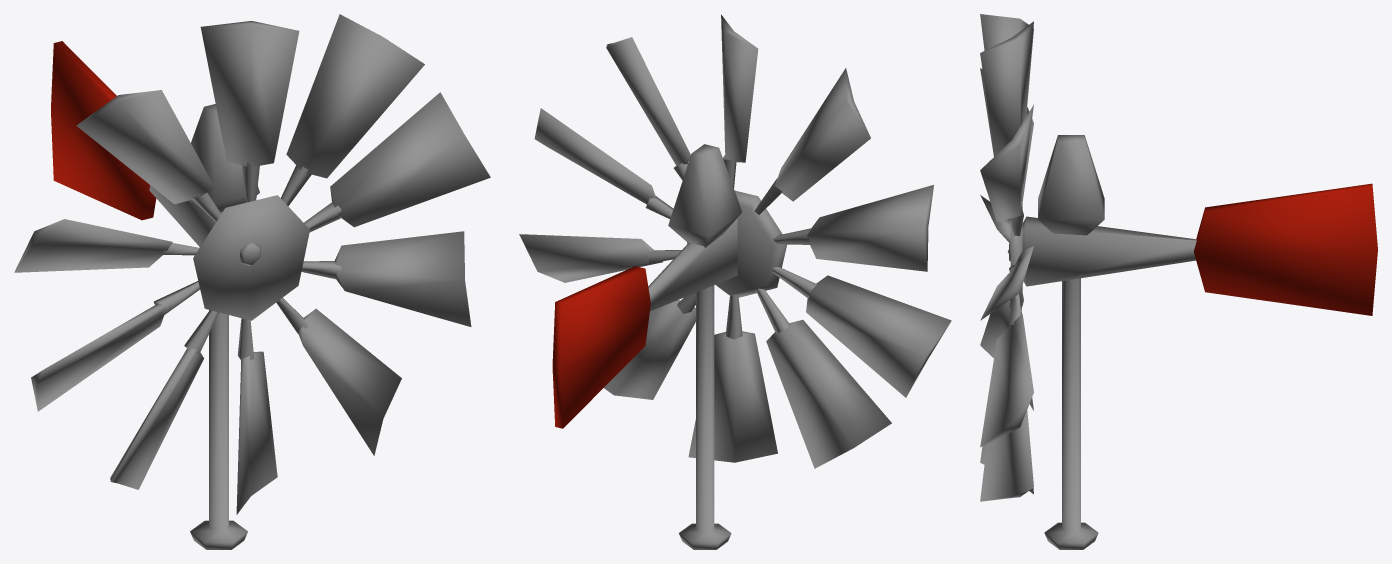
File: Western_Windmill_FanParts.fbx
3 views of the same model, side by side, from view 1: azimuth 30°, elevation 25°; view 2: azimuth 150°, elevation 25°; view 3: azimuth 270°, elevation 25° (orthographic). The views are drawn at different scales.
Parts seen in each view (by area): view 1: windmill-fan-parts, windmill-fan-parts.003, windmill-fan-parts.004, windmill-fan-parts.002, windmill-fan-parts.007, windmill-fan-parts.001, windmill-fan-parts.005, windmill-fan-parts.009, windmill-fan-parts.006, windmill-fan-parts.008; view 2: windmill-fan-parts, windmill-fan-parts.002, windmill-fan-parts.008, windmill-fan-parts.006, windmill-fan-parts.003, windmill-fan-parts.005, windmill-fan-parts.009, windmill-fan-parts.007, windmill-fan-parts.001, windmill-fan-parts.004; view 3: windmill-fan-parts, windmill-fan-parts.002, windmill-fan-parts.003, windmill-fan-parts.004, windmill-fan-parts.001, windmill-fan-parts.007, windmill-fan-parts.008.
Part boxes in pixels (x1,y1,x2,y2): windmill-fan-parts: (153,14,490,549); windmill-fan-parts.003: (149,165,311,320); windmill-fan-parts.004: (200,21,299,166); windmill-fan-parts.002: (51,41,156,220); windmill-fan-parts.007: (76,90,214,204); windmill-fan-parts.001: (276,297,401,455); windmill-fan-parts.005: (14,219,172,272); windmill-fan-parts.009: (236,351,277,514); windmill-fan-parts.006: (31,303,165,411); windmill-fan-parts.008: (110,347,203,489); windmill-fan-parts: (519,37,817,549); windmill-fan-parts.002: (552,266,650,428); windmill-fan-parts.008: (766,320,891,468); windmill-fan-parts.006: (806,275,951,397); windmill-fan-parts.003: (648,162,811,311); windmill-fan-parts.005: (807,185,933,271); windmill-fan-parts.009: (688,331,777,462); windmill-fan-parts.007: (774,68,870,201); windmill-fan-parts.001: (604,293,695,399); windmill-fan-parts.004: (721,14,758,162); windmill-fan-parts: (980,105,1104,549); windmill-fan-parts.002: (1194,183,1377,315); windmill-fan-parts.003: (1007,184,1196,309); windmill-fan-parts.004: (980,21,1033,155); windmill-fan-parts.001: (980,410,1033,501); windmill-fan-parts.007: (980,14,1033,116); windmill-fan-parts.008: (980,300,1033,410).
Size of the model in its own units: 287 by 329 by 235.
Materials: 1 (1 with a texture image).
